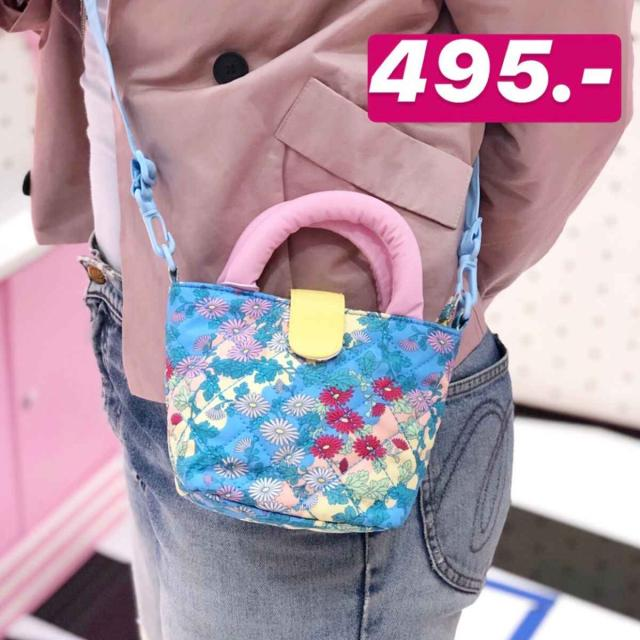handbag: (151, 274, 460, 538)
